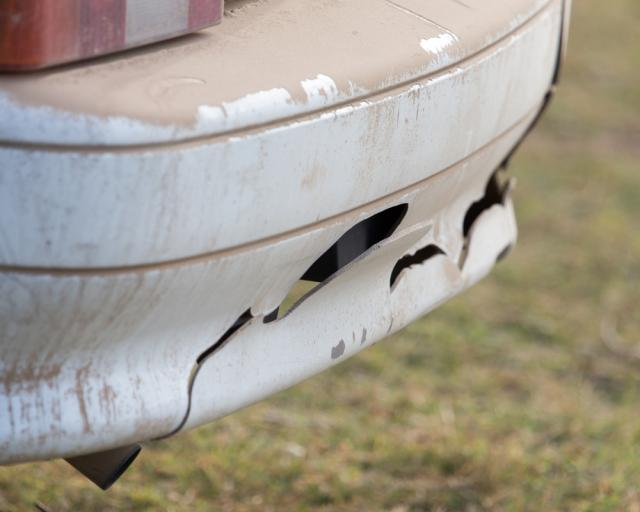crack: (152, 0, 566, 441)
